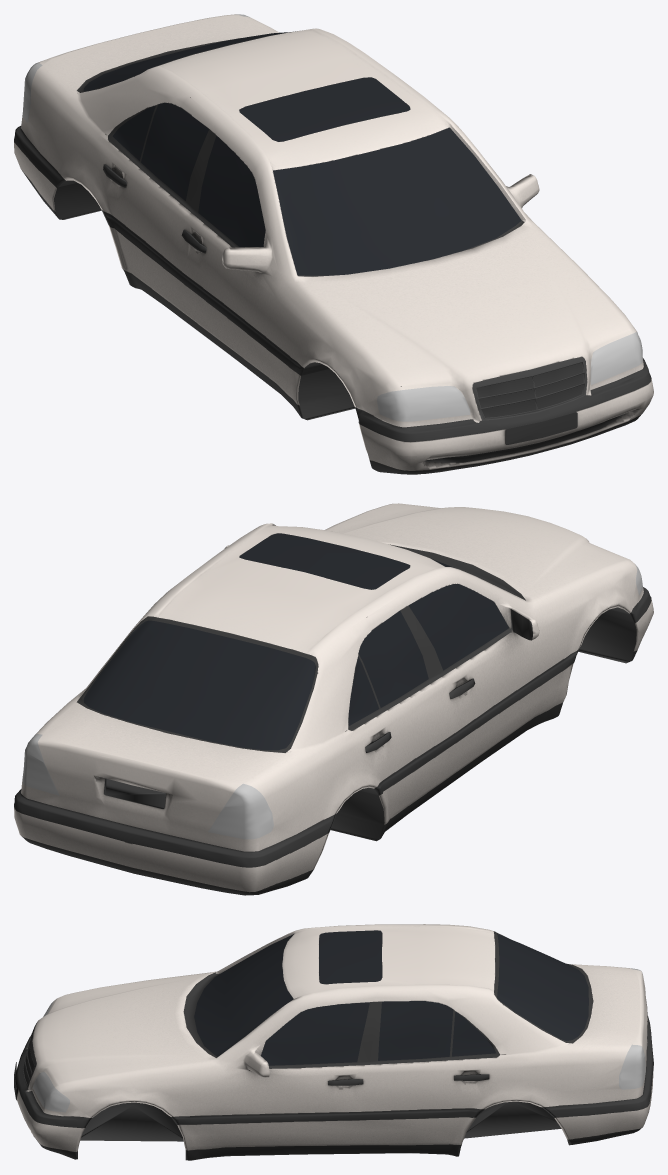
The model's file is car_0006.fbx.
The picture shows the model from 3 angles, top to bottom: view 1: azimuth 30°, elevation 25°; view 2: azimuth 150°, elevation 25°; view 3: azimuth 270°, elevation 25°; orthographic projection. The views are drawn at different scales.
Parts seen in each view (by area): view 1: car_main; view 2: car_main; view 3: car_main.
Boxes of the visible parts, x1,y1,x2,y2 form: car_main: (14,14,653,474); car_main: (14,503,653,895); car_main: (14,924,653,1160).
Bounding box in the file's own units: 206 × 130 × 469.
